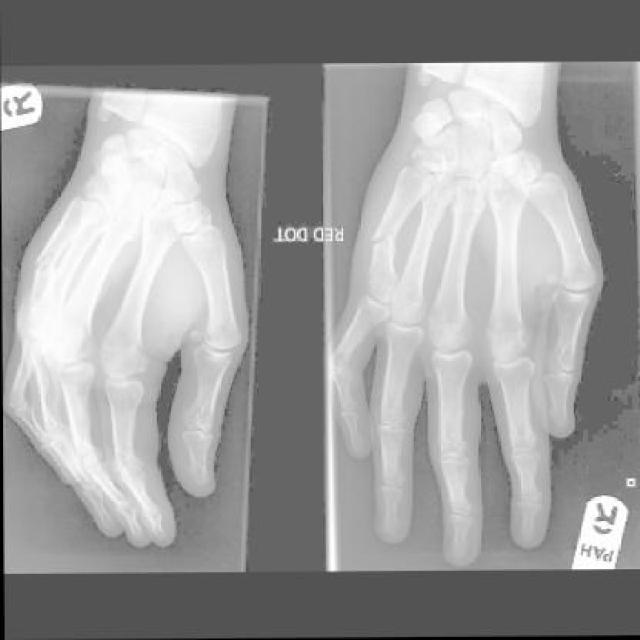Fracture: (368, 228, 398, 255), (31, 254, 59, 282)
